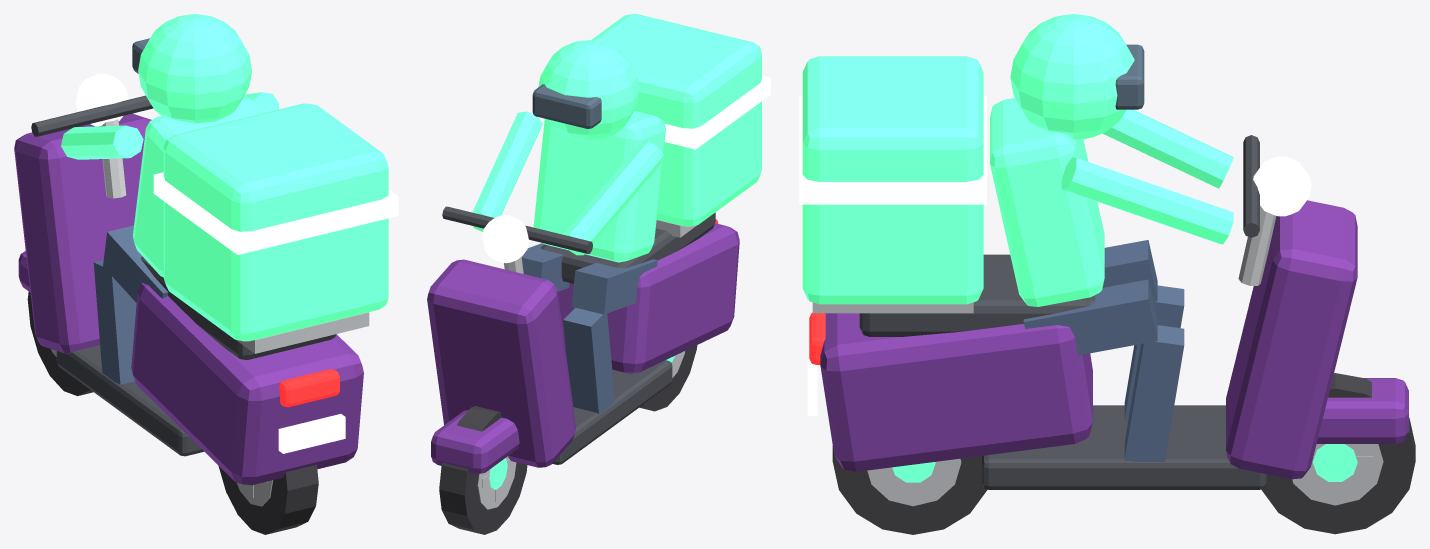
Rendered from delivery_zepto.glb.
3 views of the same model, side by side, from view 1: azimuth 30°, elevation 25°; view 2: azimuth 150°, elevation 25°; view 3: azimuth 270°, elevation 25° (orthographic). The views are drawn at different scales.
Parts seen in each view (by area): view 1: Scooter_Body.001, Wheel_Rear.001, Wheel_Front.002; view 2: Scooter_Body.001, Wheel_Front.002, Wheel_Rear.001; view 3: Scooter_Body.001, Wheel_Front.002, Wheel_Rear.001.
Part boxes in pixels (bbox=[...]): Scooter_Body.001: bbox=[14, 14, 398, 485]; Wheel_Rear.001: bbox=[218, 464, 318, 534]; Wheel_Front.002: bbox=[27, 292, 93, 395]; Scooter_Body.001: bbox=[427, 14, 770, 473]; Wheel_Front.002: bbox=[439, 406, 527, 534]; Wheel_Rear.001: bbox=[639, 345, 697, 411]; Scooter_Body.001: bbox=[799, 14, 1408, 489]; Wheel_Front.002: bbox=[1261, 373, 1415, 534]; Wheel_Rear.001: bbox=[832, 446, 987, 534].
Size of the model in its own units: 0.6397 by 1.67 by 1.84.
